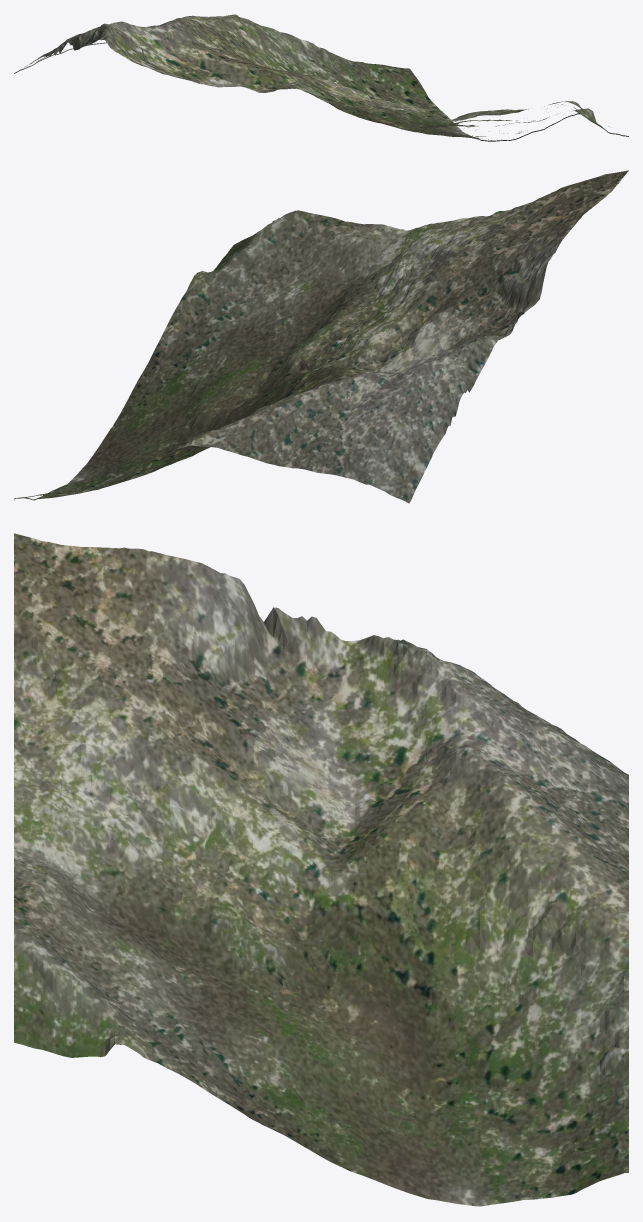
The picture shows the model from 3 angles, top to bottom: view 1: azimuth 30°, elevation 25°; view 2: azimuth 150°, elevation 25°; view 3: azimuth 270°, elevation 25°; orthographic projection. The views are drawn at different scales.
Bounding box in the file's own units: 500 × 349 × 481.
Materials: 1 (1 with a texture image).
